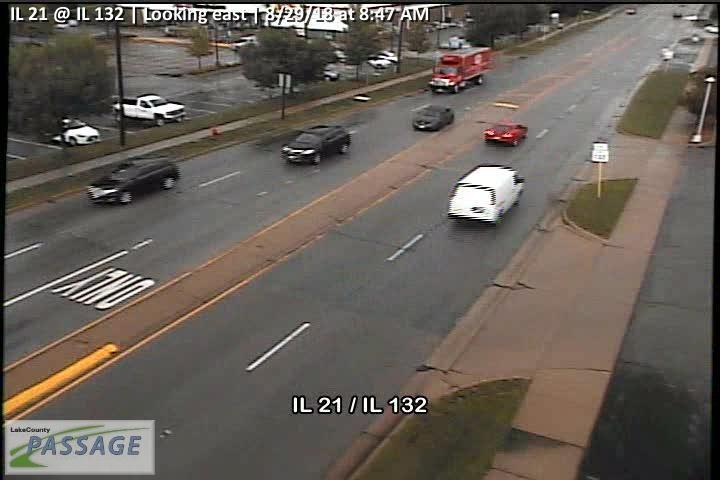SUV: (447, 165, 525, 227), (88, 156, 180, 206), (281, 123, 351, 166)
Sedan: (44, 118, 100, 146), (482, 119, 529, 148), (412, 105, 455, 131)
Truck: (428, 46, 491, 94), (111, 93, 186, 129)
